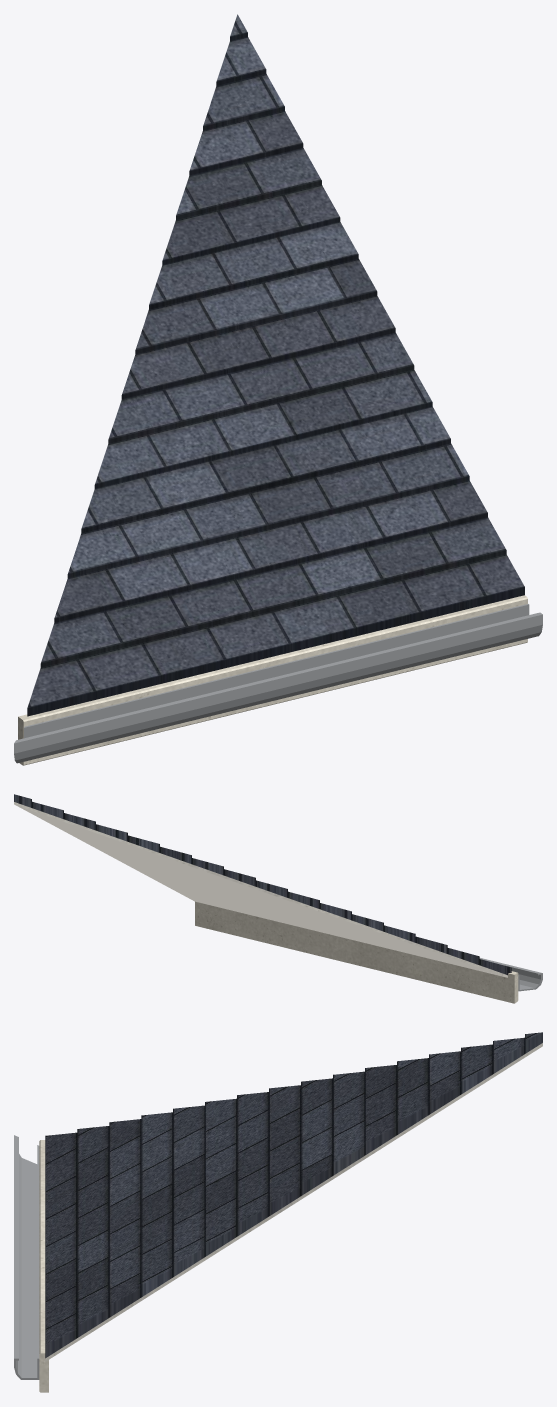
File: roof_main_6_l.glb
3 views of the same model, one above another, from view 1: azimuth 30°, elevation 25°; view 2: azimuth 150°, elevation 25°; view 3: azimuth 270°, elevation 25° (orthographic). The views are drawn at different scales.
Visible parts, largest first — view 1: roof_main_6_l_shingles, roof_main_6_l_gutter, roof_main_6_l_trim; view 2: roof_main_6_l_plaster, roof_main_6_l_trim, roof_main_6_l_shingles, roof_main_6_l_gutter; view 3: roof_main_6_l_shingles, roof_main_6_l_gutter, roof_main_6_l_plaster, roof_main_6_l_trim.
Part boxes in pixels (x1,y1,x2,y2): roof_main_6_l_shingles: (27, 14, 524, 716); roof_main_6_l_gutter: (14, 604, 542, 763); roof_main_6_l_trim: (18, 595, 527, 765); roof_main_6_l_plaster: (14, 802, 507, 977); roof_main_6_l_trim: (195, 901, 518, 1003); roof_main_6_l_shingles: (14, 794, 511, 975); roof_main_6_l_gutter: (479, 958, 542, 991); roof_main_6_l_shingles: (45, 1032, 542, 1358); roof_main_6_l_gutter: (14, 1135, 39, 1379); roof_main_6_l_plaster: (45, 1043, 542, 1361); roof_main_6_l_trim: (39, 1140, 48, 1392).
Bounding box in the file's own units: 2.71 × 2.04 × 2.71.
4 materials, 3 textured.
